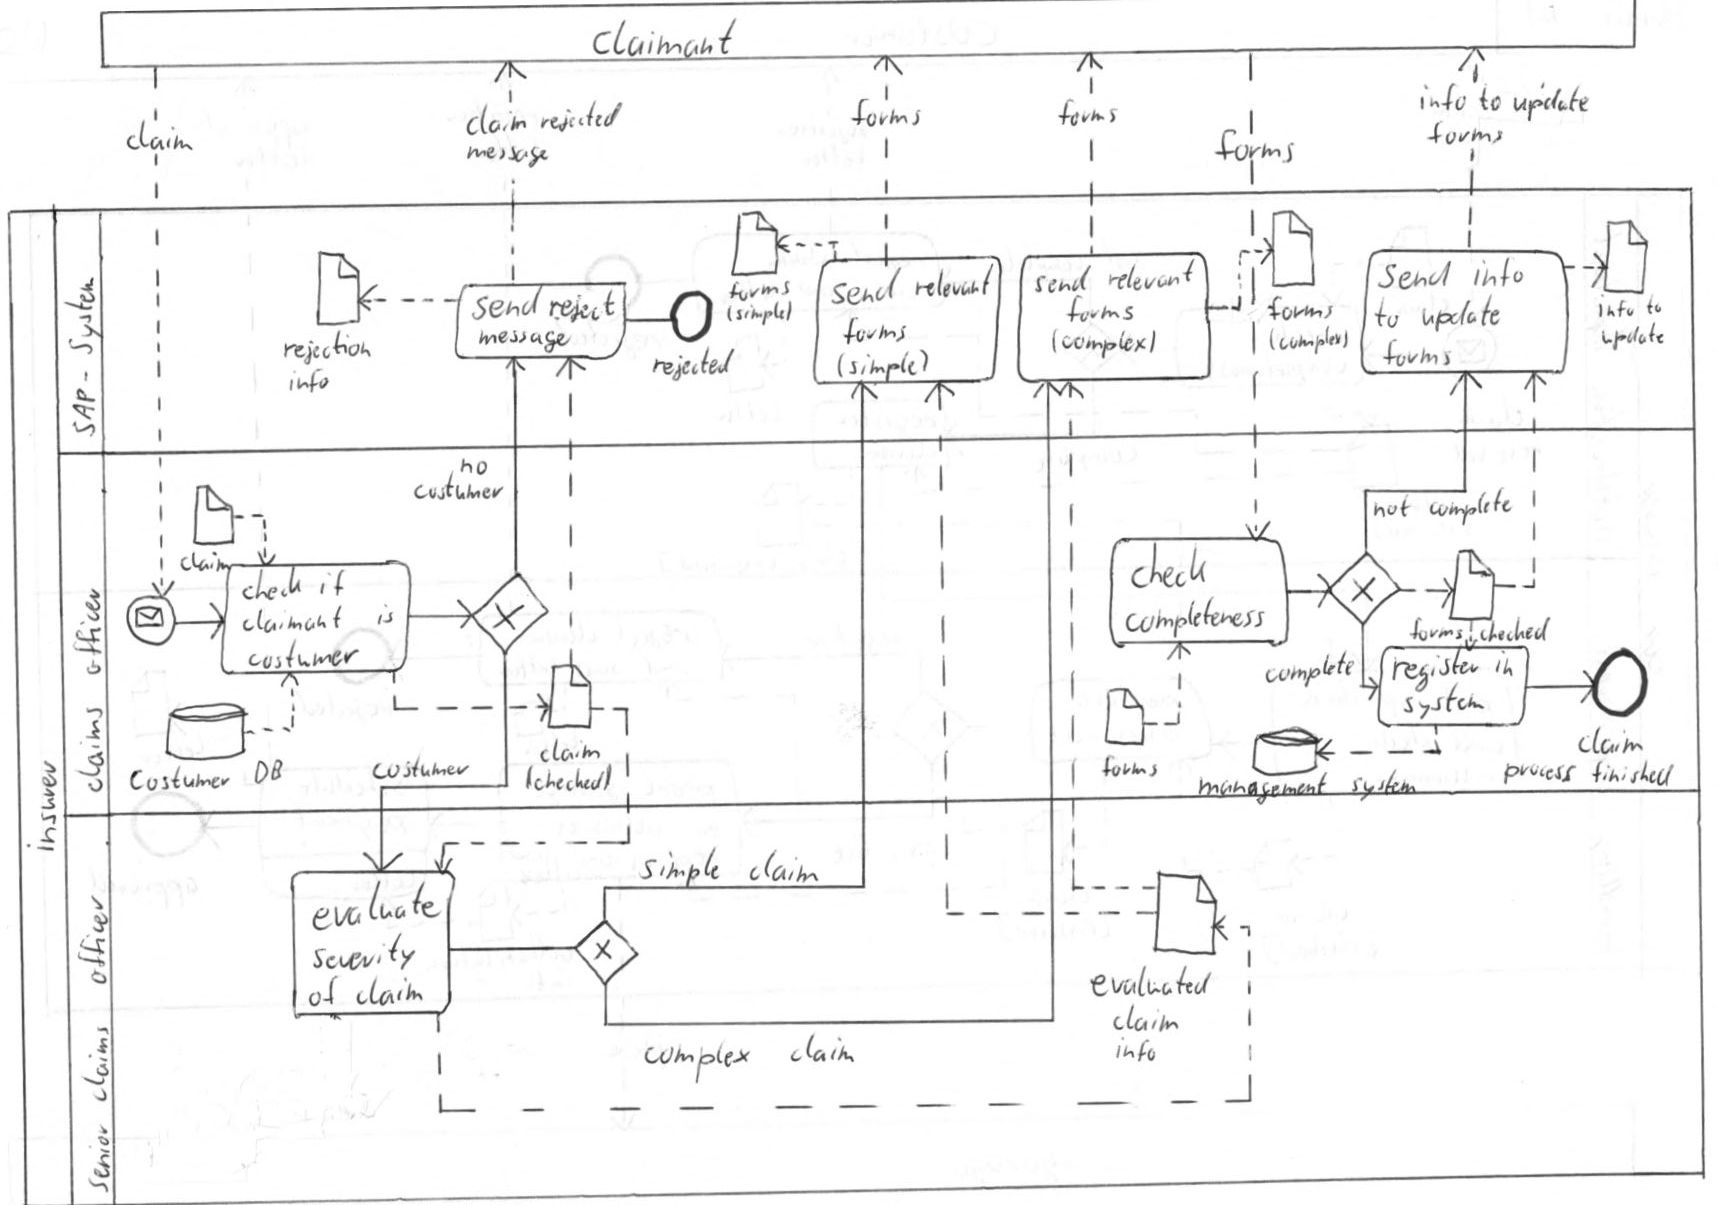(checked): (529, 762, 610, 795)
(complex): (1050, 329, 1161, 358), (1268, 324, 1349, 354)
(simple): (837, 350, 929, 381), (726, 302, 798, 326)
Costumer: (129, 768, 232, 794)
DB: (255, 759, 285, 790)
Info: (1597, 296, 1638, 320)
Insurer: (33, 760, 61, 856)
SAP: (67, 390, 97, 437)
SAP-System: (65, 274, 99, 437)
Send: (1379, 261, 1454, 292)
Senior: (81, 1125, 114, 1195)
Severity: (309, 936, 416, 974)
check: (1127, 550, 1214, 594), (242, 571, 313, 604)
checked: (1474, 618, 1552, 646)
claim: (742, 851, 821, 888), (787, 1034, 856, 1071), (350, 978, 426, 1010), (125, 123, 195, 157), (463, 106, 530, 140), (1574, 727, 1644, 759), (1110, 1007, 1181, 1037), (538, 740, 608, 765), (178, 551, 231, 576)
claimant: (589, 21, 735, 57), (238, 603, 345, 631)
claims: (78, 1022, 114, 1104), (74, 705, 106, 794)
complete: (1426, 487, 1522, 524), (1262, 651, 1356, 687)
completeness: (1121, 601, 1268, 640)
complex: (648, 1039, 756, 1074)
costumer: (245, 642, 362, 674), (369, 757, 471, 785)
custumer: (413, 479, 507, 505)
evaluate: (302, 871, 450, 939)
evaluated: (1090, 966, 1217, 1001)
finished: (1589, 760, 1676, 789)
forms: (1213, 131, 1292, 168), (1381, 339, 1460, 371), (849, 101, 923, 132), (1427, 121, 1508, 148), (1064, 299, 1140, 325), (841, 317, 909, 346), (1266, 296, 1335, 324), (1055, 101, 1117, 129), (1407, 618, 1460, 646), (726, 279, 792, 302), (1101, 756, 1159, 781)
if: (316, 568, 349, 601)
in: (1484, 654, 1520, 683)
info: (1467, 261, 1530, 292), (283, 368, 329, 396), (1112, 1039, 1158, 1064)
into: (1416, 87, 1469, 117)
is: (369, 603, 397, 629)
management: (1198, 774, 1330, 802)
message: (480, 326, 570, 352), (471, 142, 548, 168)
no: (461, 457, 491, 479)
not: (1371, 497, 1409, 520)
of: (303, 978, 345, 1012)
officer: (76, 890, 112, 984), (74, 585, 104, 676)
process: (1503, 761, 1580, 785)
register: (1386, 653, 1480, 687)
reject: (544, 285, 617, 322)
rejected: (535, 101, 627, 136), (649, 351, 734, 381)
rejection: (278, 332, 375, 367)
relevant: (1102, 262, 1200, 296), (907, 269, 993, 305)
send: (828, 273, 902, 309), (471, 285, 542, 322), (1033, 268, 1091, 296)
simple: (640, 851, 723, 883)
system: (1399, 685, 1488, 721), (1350, 768, 1418, 795)
to: (1471, 84, 1507, 114), (1369, 300, 1403, 330), (1642, 296, 1663, 320)
update: (1514, 85, 1589, 121), (1419, 300, 1501, 332), (1598, 322, 1666, 351)
